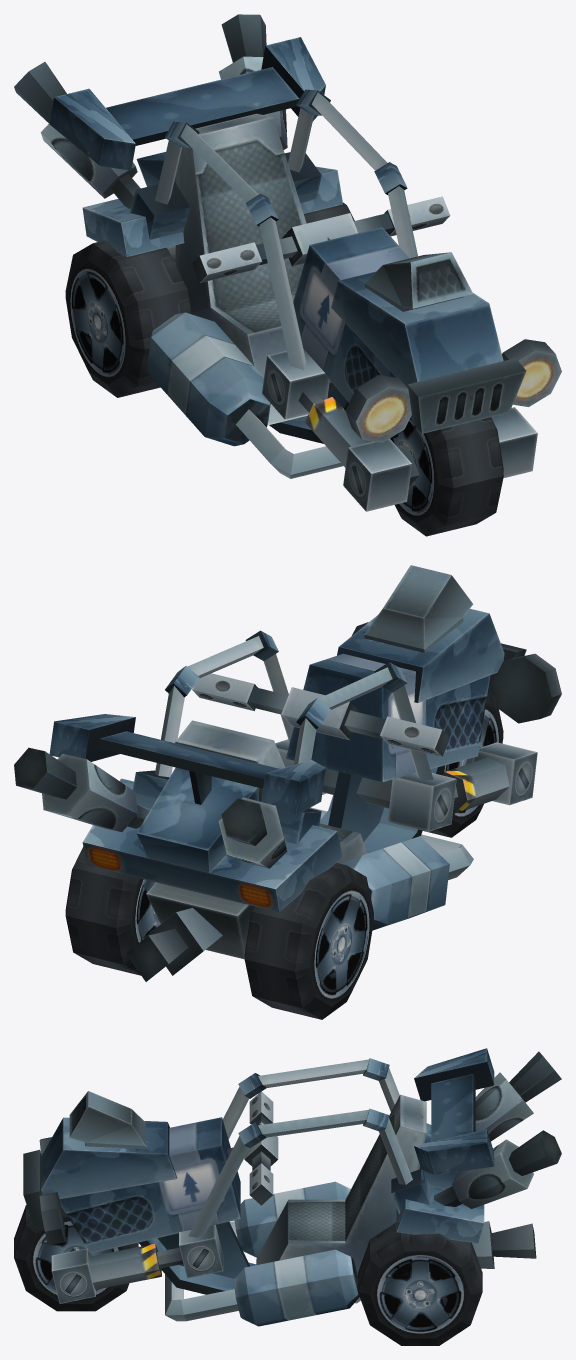
Rendered from Dipper_AI.glb.
The picture shows the model from 3 angles, top to bottom: view 1: azimuth 30°, elevation 25°; view 2: azimuth 150°, elevation 25°; view 3: azimuth 270°, elevation 25°; orthographic projection. The views are drawn at different scales.
Parts seen in each view (by area): view 1: kart_dipper, right_wheel, front_wheel; view 2: kart_dipper, right_wheel, left_wheel, front_wheel; view 3: kart_dipper, left_wheel, front_wheel.
Part boxes in pixels (bbox=[...]): kart_dipper: bbox=[14, 14, 561, 511]; right_wheel: bbox=[65, 240, 192, 397]; front_wheel: bbox=[390, 417, 503, 536]; kart_dipper: bbox=[14, 565, 561, 981]; right_wheel: bbox=[244, 863, 373, 1019]; left_wheel: bbox=[65, 847, 160, 975]; front_wheel: bbox=[423, 695, 503, 837]; kart_dipper: bbox=[23, 1048, 561, 1326]; left_wheel: bbox=[358, 1222, 482, 1345]; front_wheel: bbox=[14, 1205, 138, 1311].
Size of the model in its own units: 1.95 by 2.06 by 4.68.
1 material, 1 textured.
